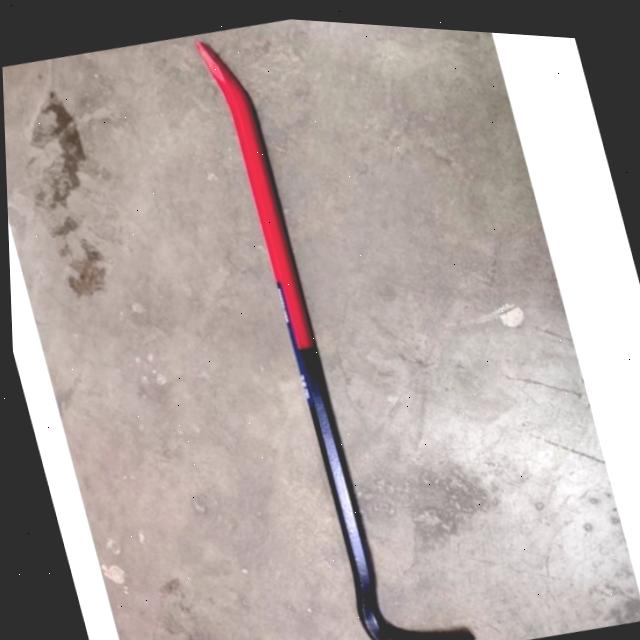crow bar: (193, 34, 466, 640)
